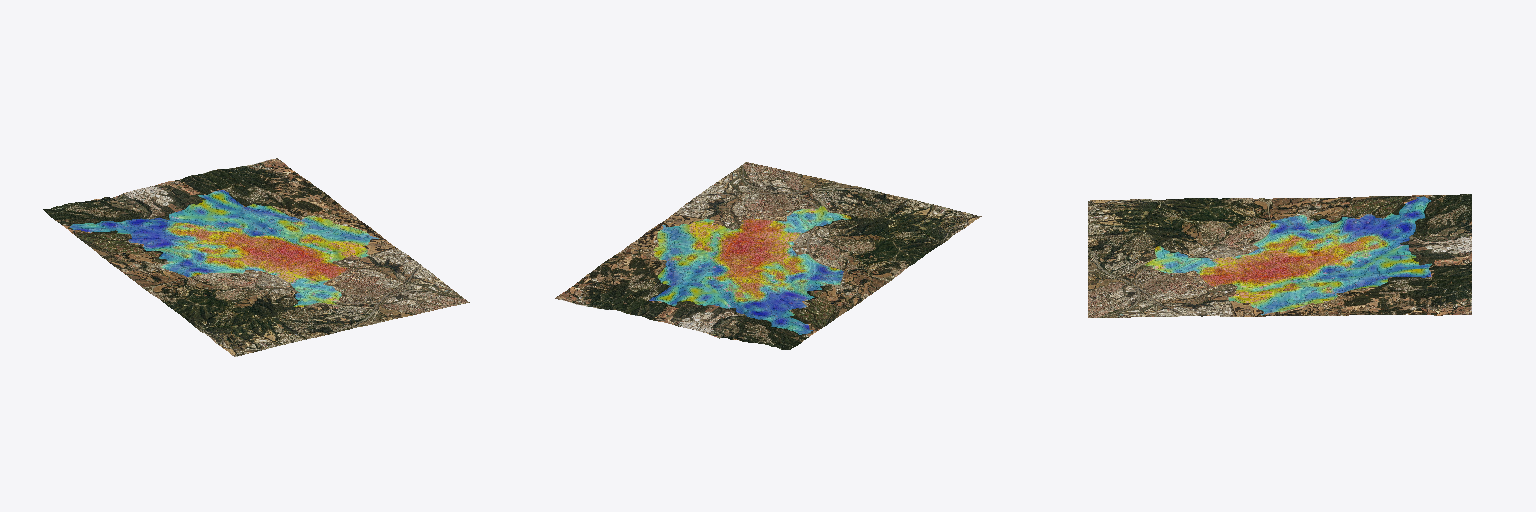
The picture shows the model from 3 angles: view 1: azimuth 30°, elevation 25°; view 2: azimuth 150°, elevation 25°; view 3: azimuth 270°, elevation 25°; orthographic projection.
Parts seen in each view (by area): view 1: illaCalor_MetElipResi_2; view 2: illaCalor_MetElipResi_2; view 3: illaCalor_MetElipResi_2.
Boxes of the visible parts, x1=… form: illaCalor_MetElipResi_2: x1=43, y1=158, x2=469, y2=356; illaCalor_MetElipResi_2: x1=555, y1=162, x2=981, y2=349; illaCalor_MetElipResi_2: x1=1088, y1=194, x2=1471, y2=317.
Size of the model in its own units: 12.63 by 0.5052 by 17.86.
Materials: 1 (1 with a texture image).